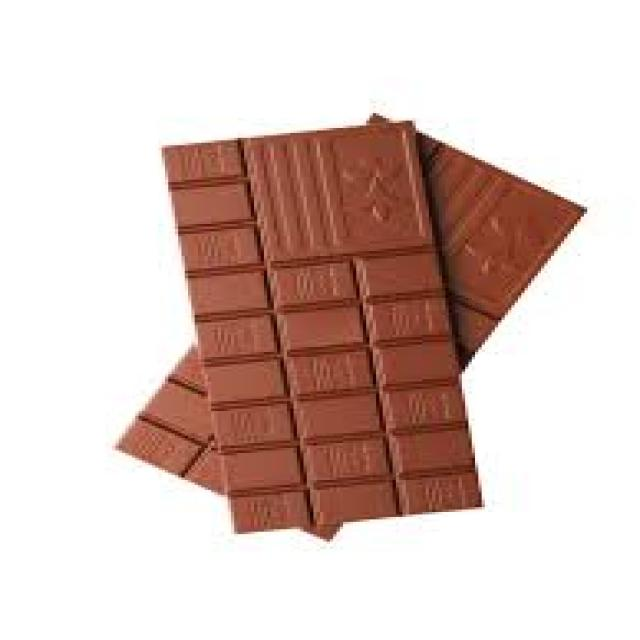Chocolate: (115, 108, 588, 540), (150, 113, 486, 530)
